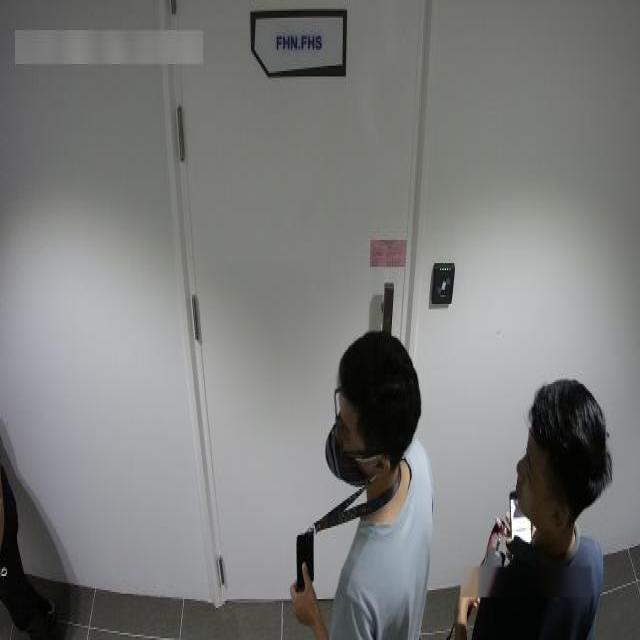bare_hand: (276, 560, 328, 628)
